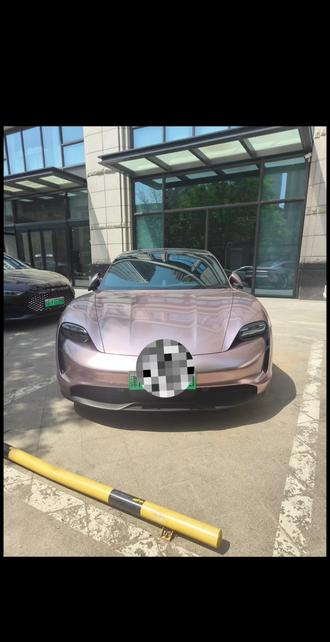other: (56, 248, 272, 411)
